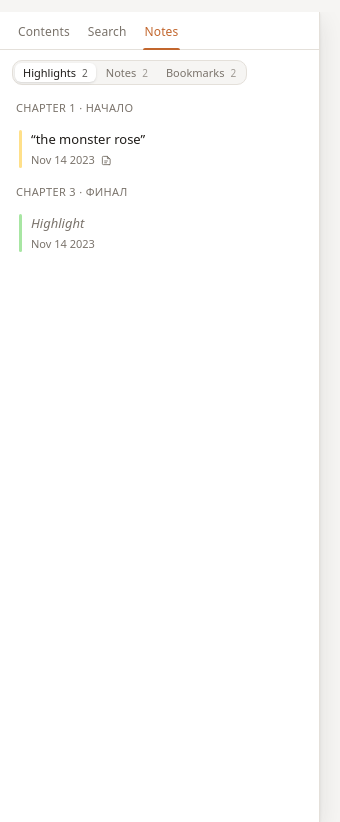
Test case: AnnotationsPanel › switches Segmented tabs and shows per-type counts of the CURRENT book only
Expected: the tab "Highlights 2" is shown, [15,63,96,82]
Click the tab "Notes 2" at (127, 73), box [98,63,156,82]
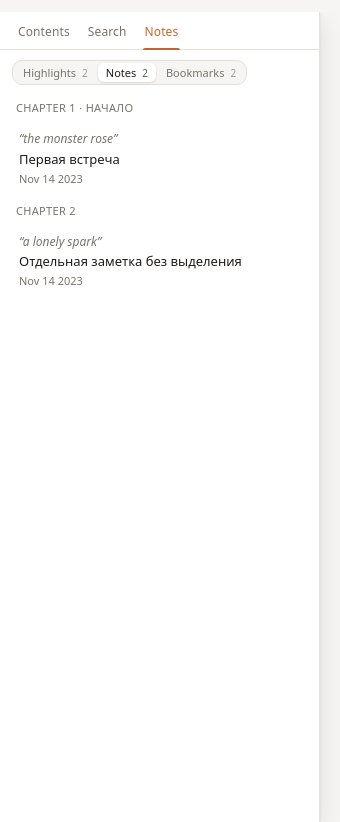
Now the number of buttons with test id "note-row" is 2, box [19,130,120,186]; [19,233,242,288]
Now the button with test id "highlight-row" is gone
Click the tab "Bookmarks 2" at (201, 73), box [158,63,244,82]
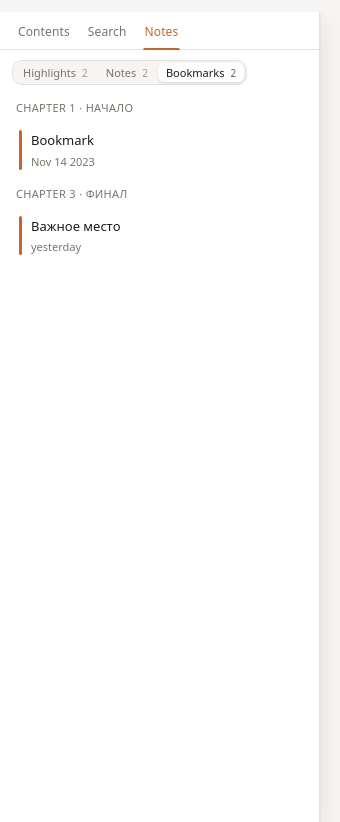
Now the number of buttons with test id "bookmark-row" is 2, box [19,130,95,170]; [19,216,120,255]
Now the button with test id "note-row" is gone
Click the tab "Highlights 2" at (55, 73), box [15,63,96,82]
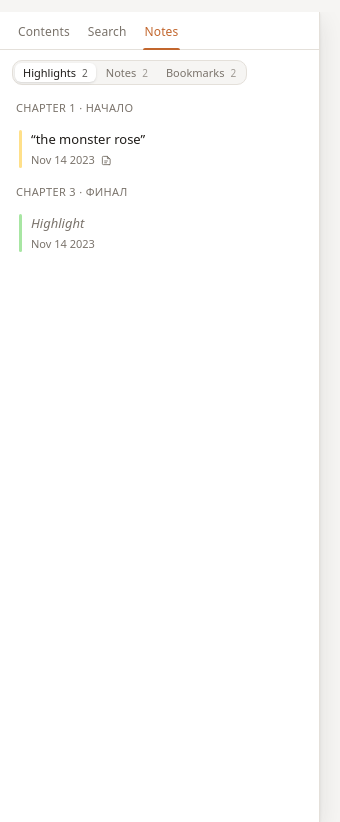
Now the number of buttons with test id "highlight-row" is 2, box [19,130,145,168]; [19,214,95,252]
